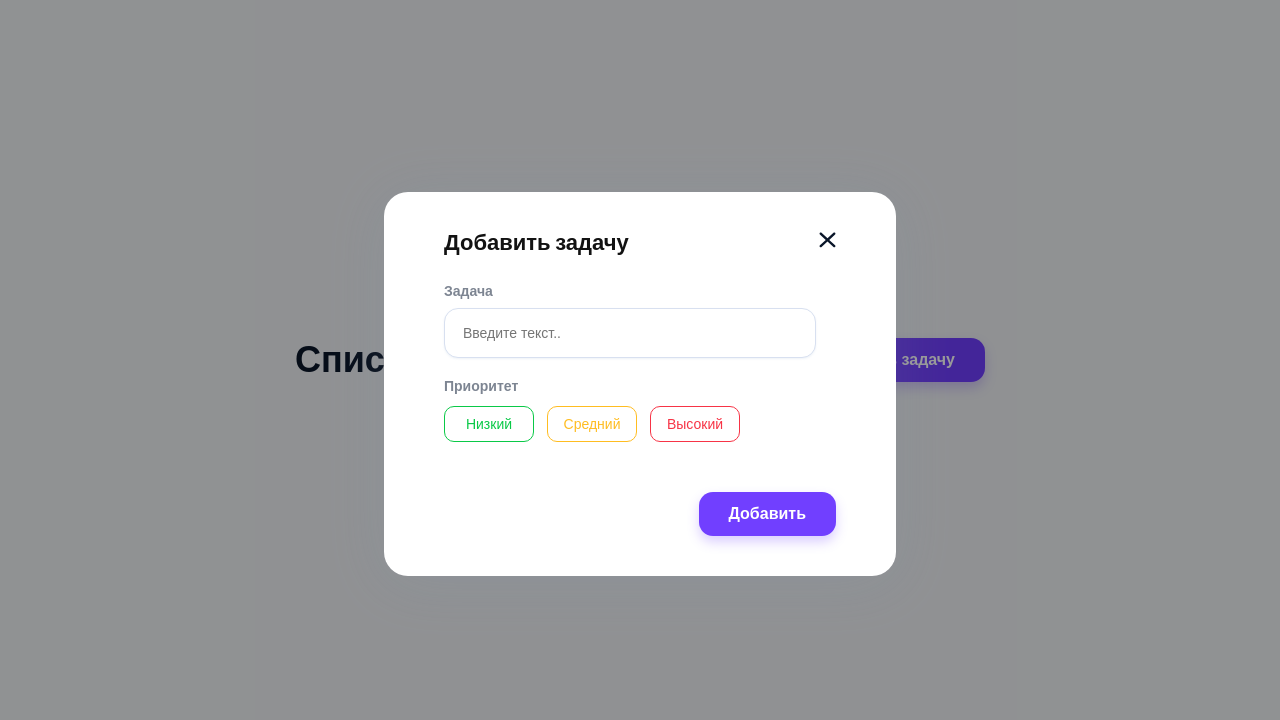
Тесты для модалки добавления задачи › Клик по крестику должен закрывать модальное окно
The width and height of the screenshot is (1280, 720).
Expected: the element with test id "add-edit-task-modal" is shown, 444,232 -> 836,536
Click the icon with test id "close-icon" at [828, 240], box 819,232 -> 836,248
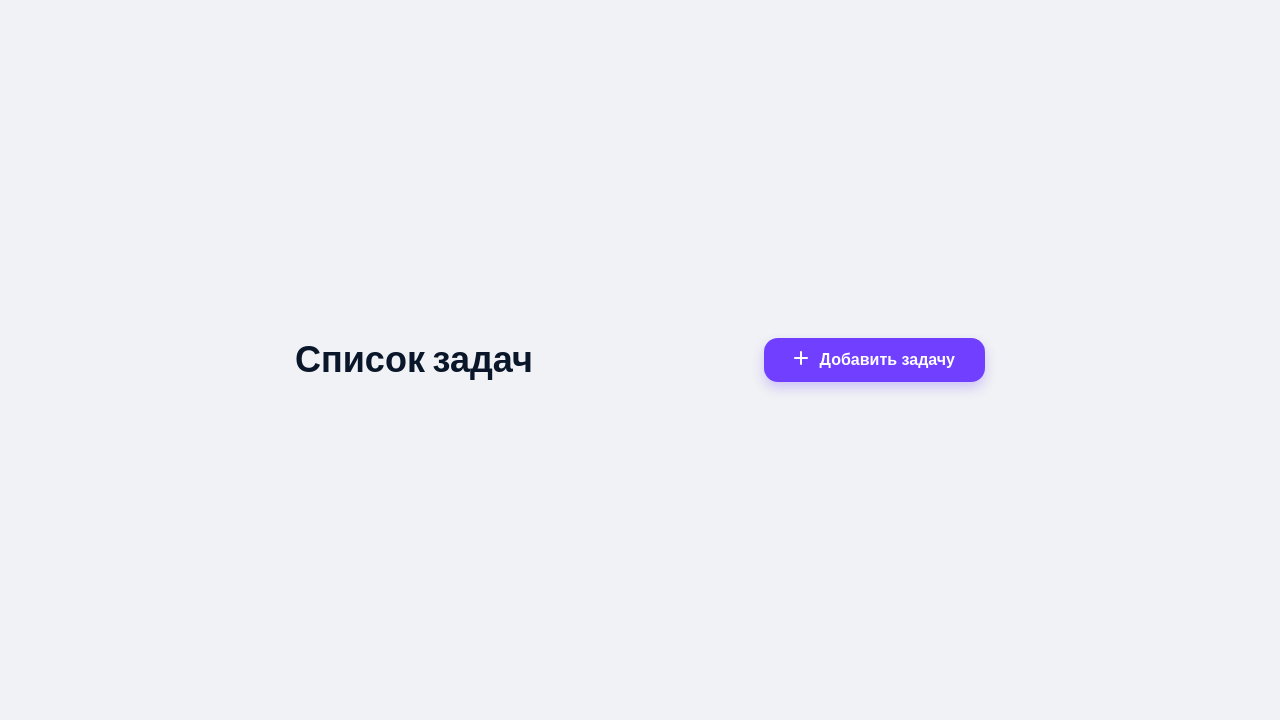
Expected: the element with test id "add-edit-task-modal" is gone
